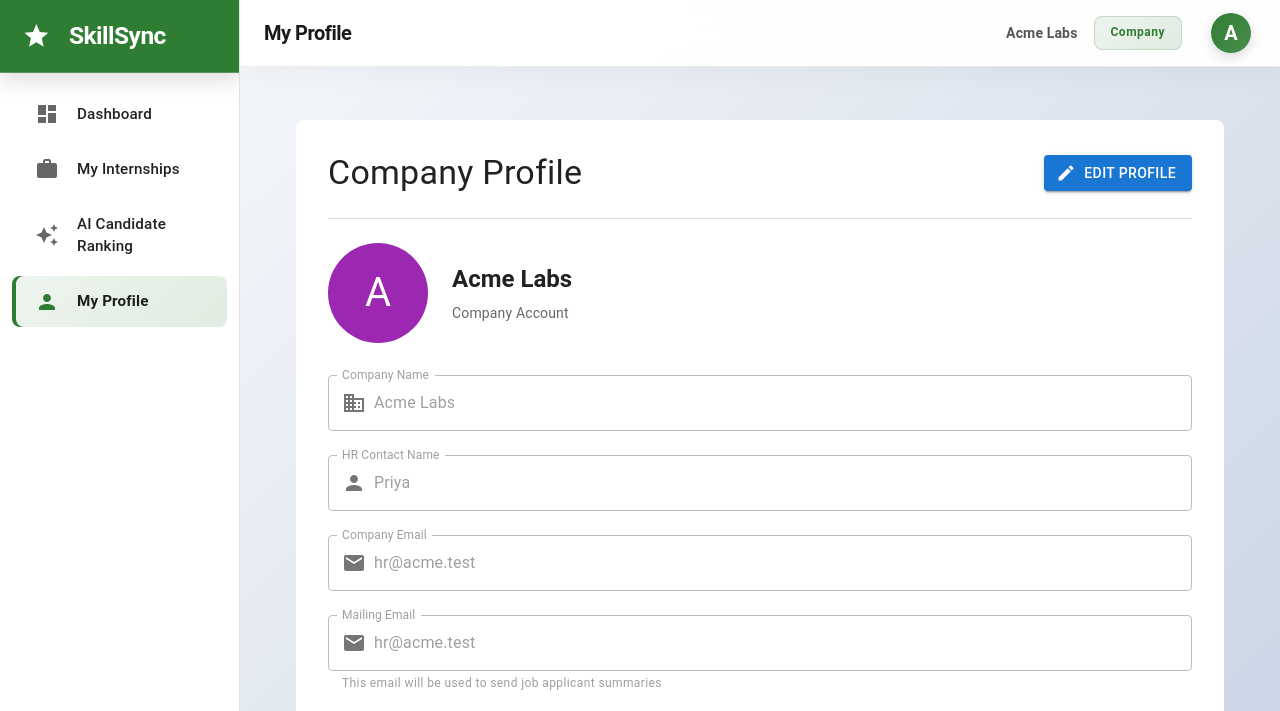
it: a failed save keeps the form open and reports the error
Click the button "Edit Profile". click: coordinates (1118, 173)
box: [1044,155,1192,191]
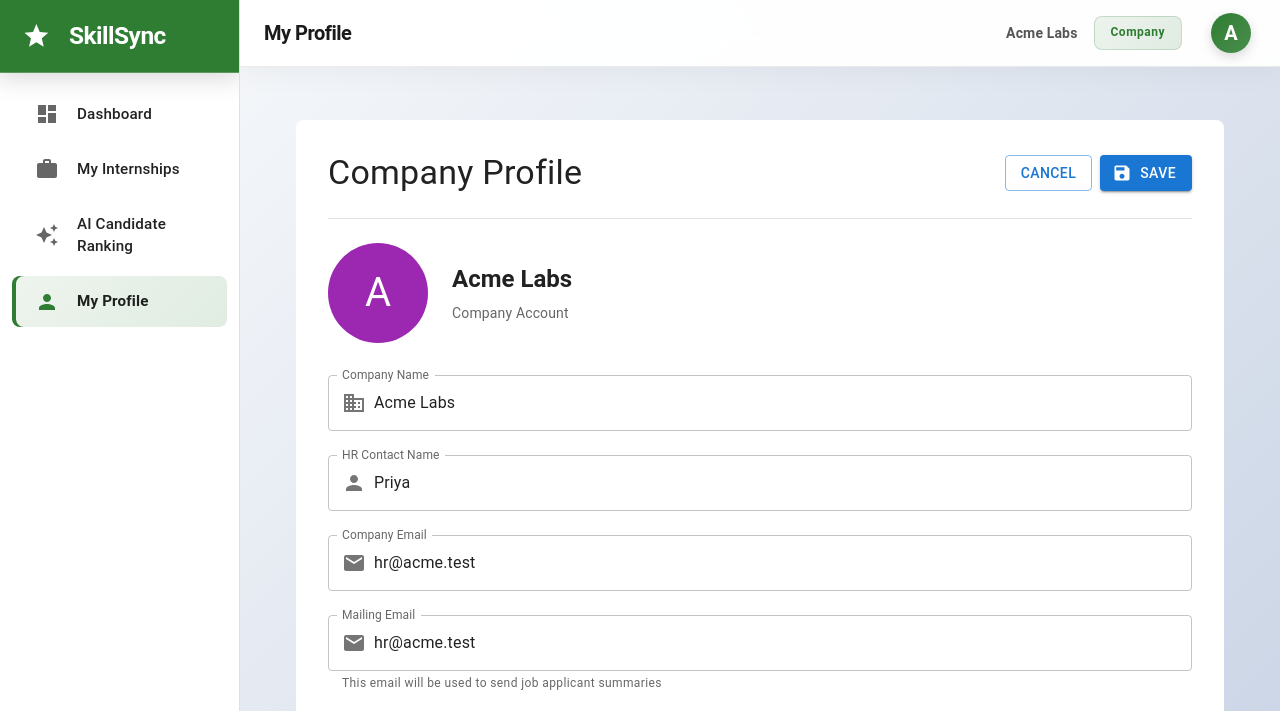
Click the button "Save". click: coordinates (1146, 173)
box: [1100,155,1192,191]
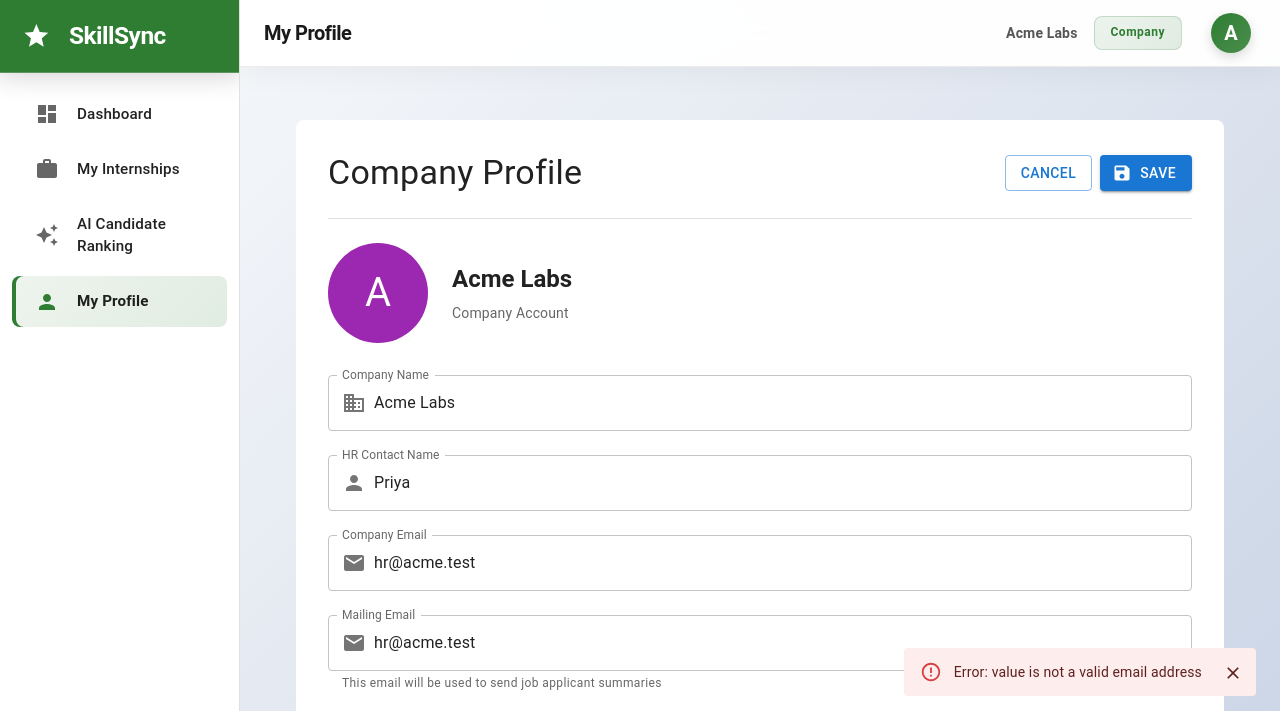
Check: the field labelled "HR Contact Name" is enabled, box [374,455,1192,511]
Check: the text "Error: value is not a valid email address" is shown, box [954,664,1202,680]
